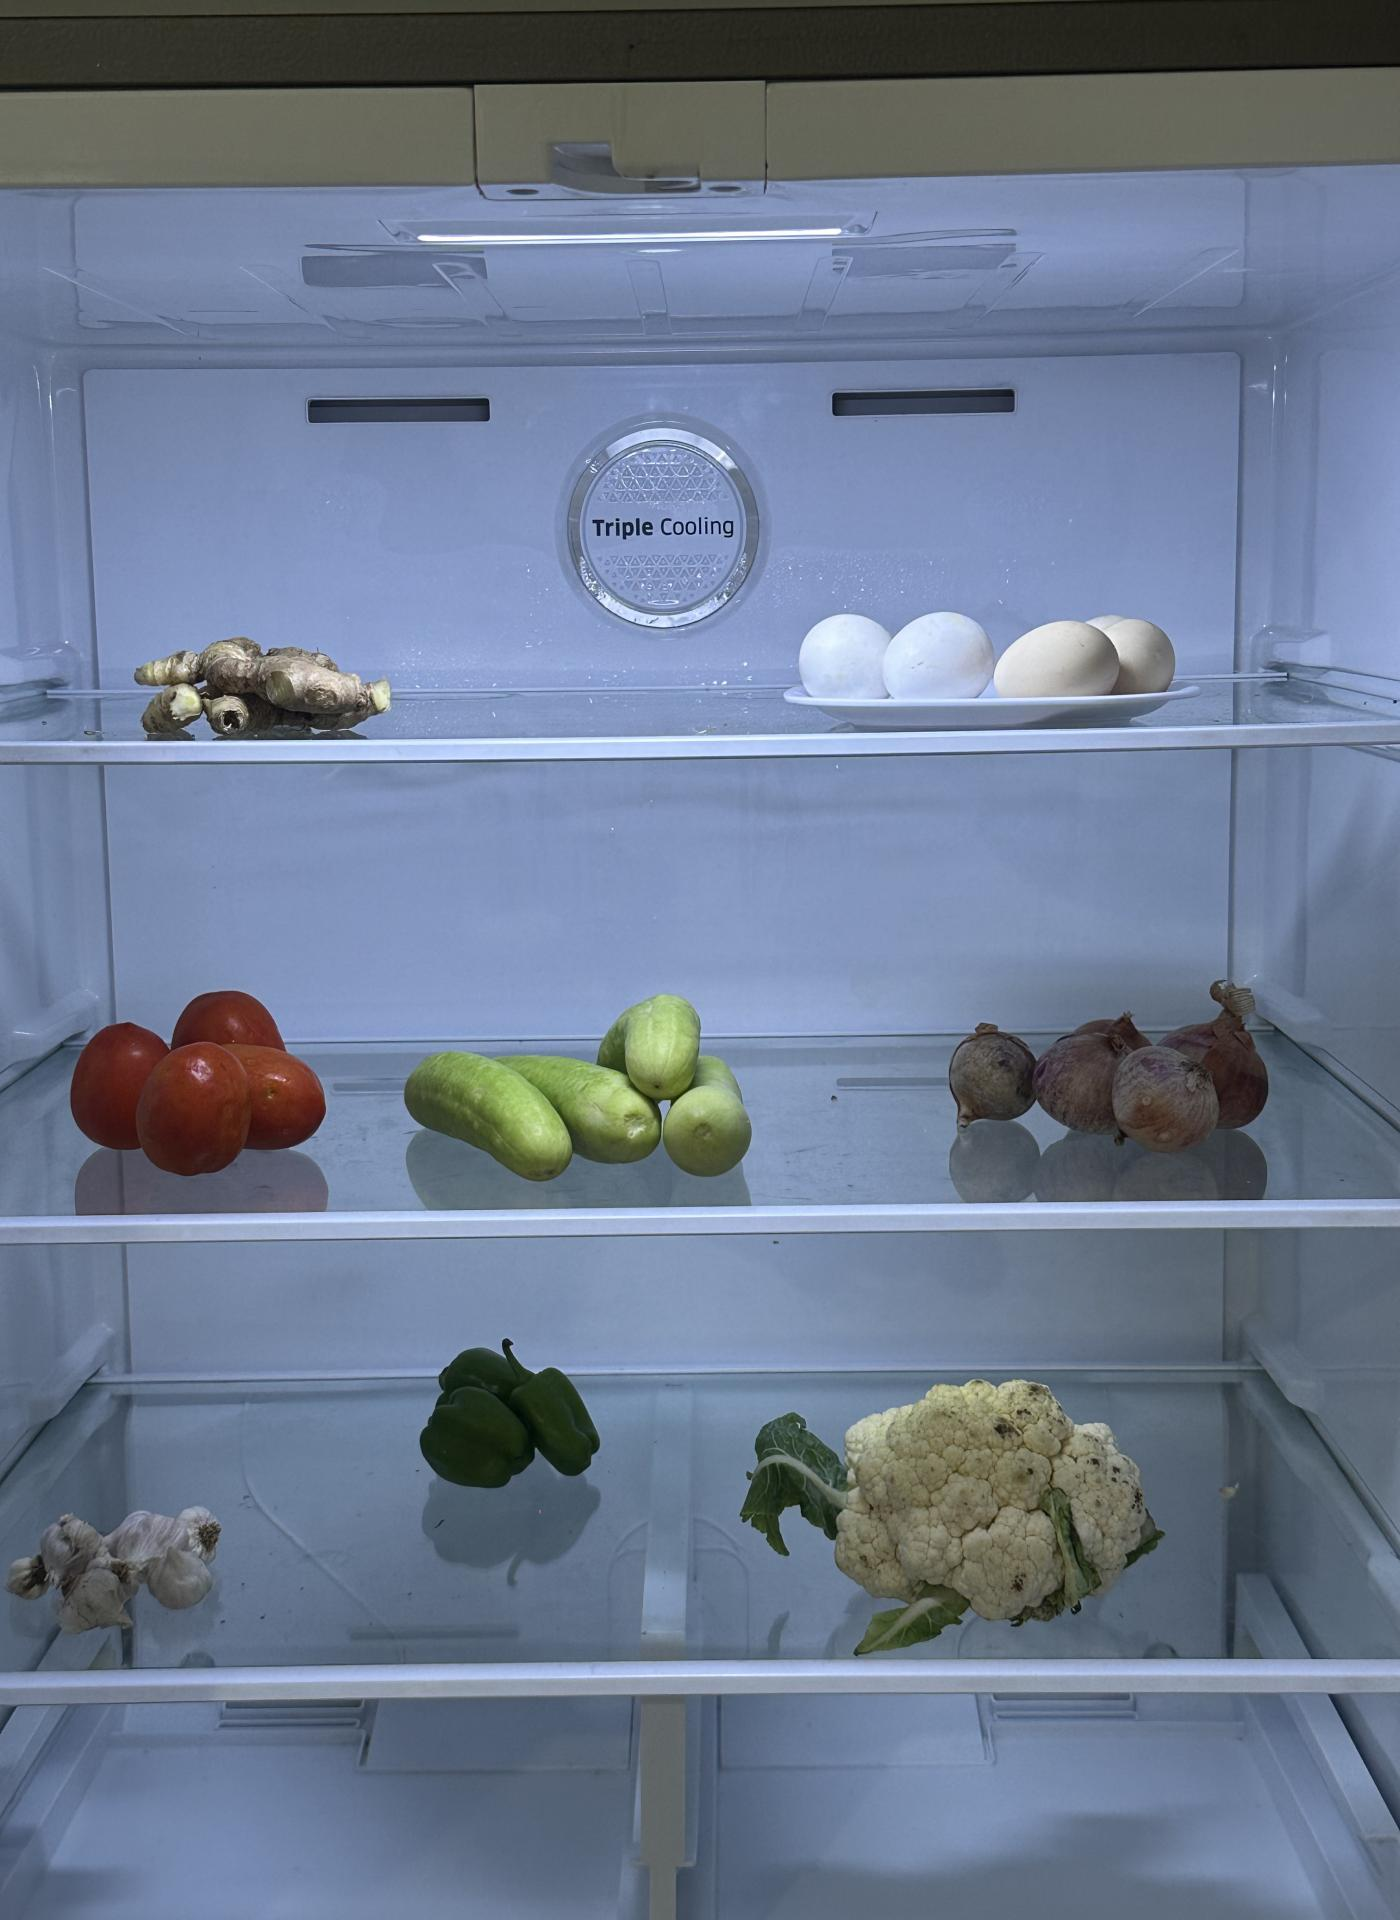capsicum: (414, 1343, 598, 1494)
cauliflower: (827, 1373, 1154, 1617)
cucumber: (407, 1008, 772, 1197)
egg: (786, 602, 1178, 721)
garlic: (12, 1503, 228, 1646)
ginger: (128, 626, 391, 741)
onion: (945, 996, 1267, 1164)
tomato: (72, 982, 334, 1178)
